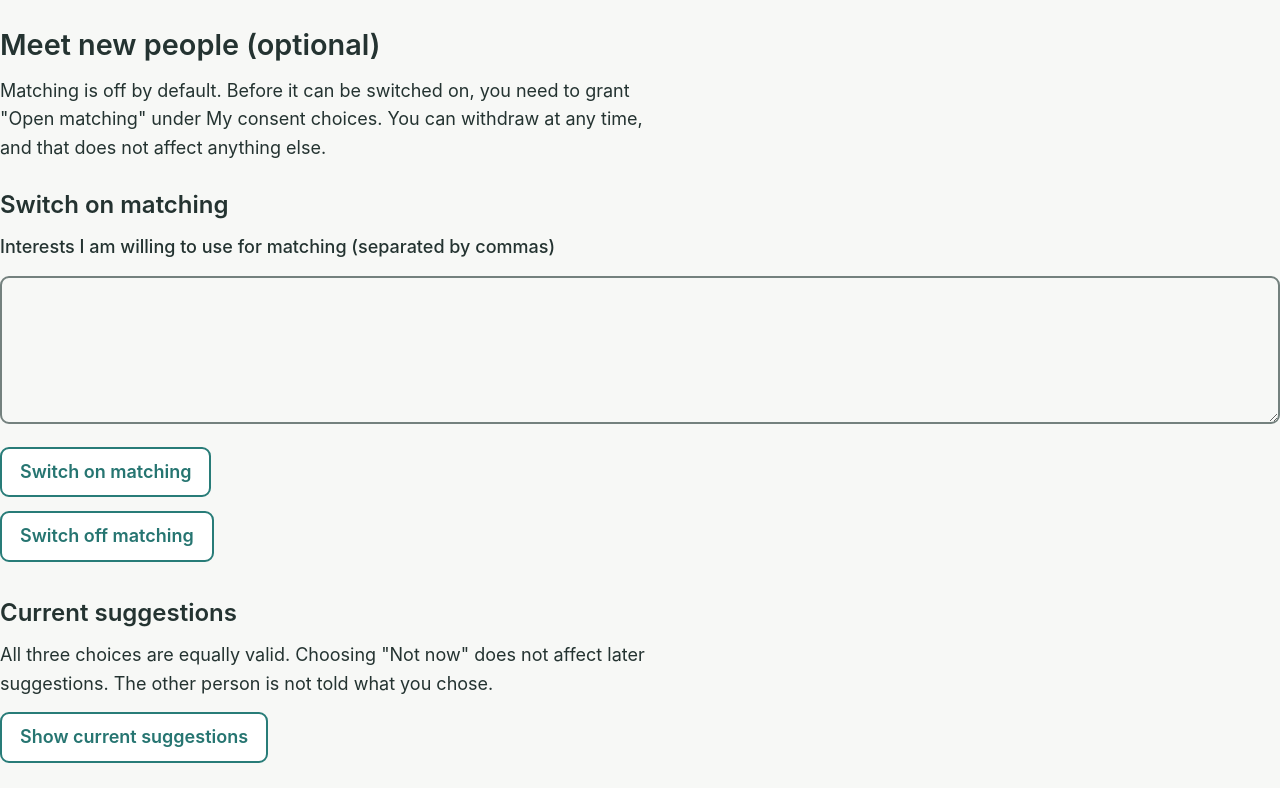
Test case: MatchingPanel (opt-in matching over API lists, ADR-036) › keeps a suggestion and a mutual acceptance visually different
Click the button "Show current suggestions": x=134, y=738 [0, 712, 268, 763]
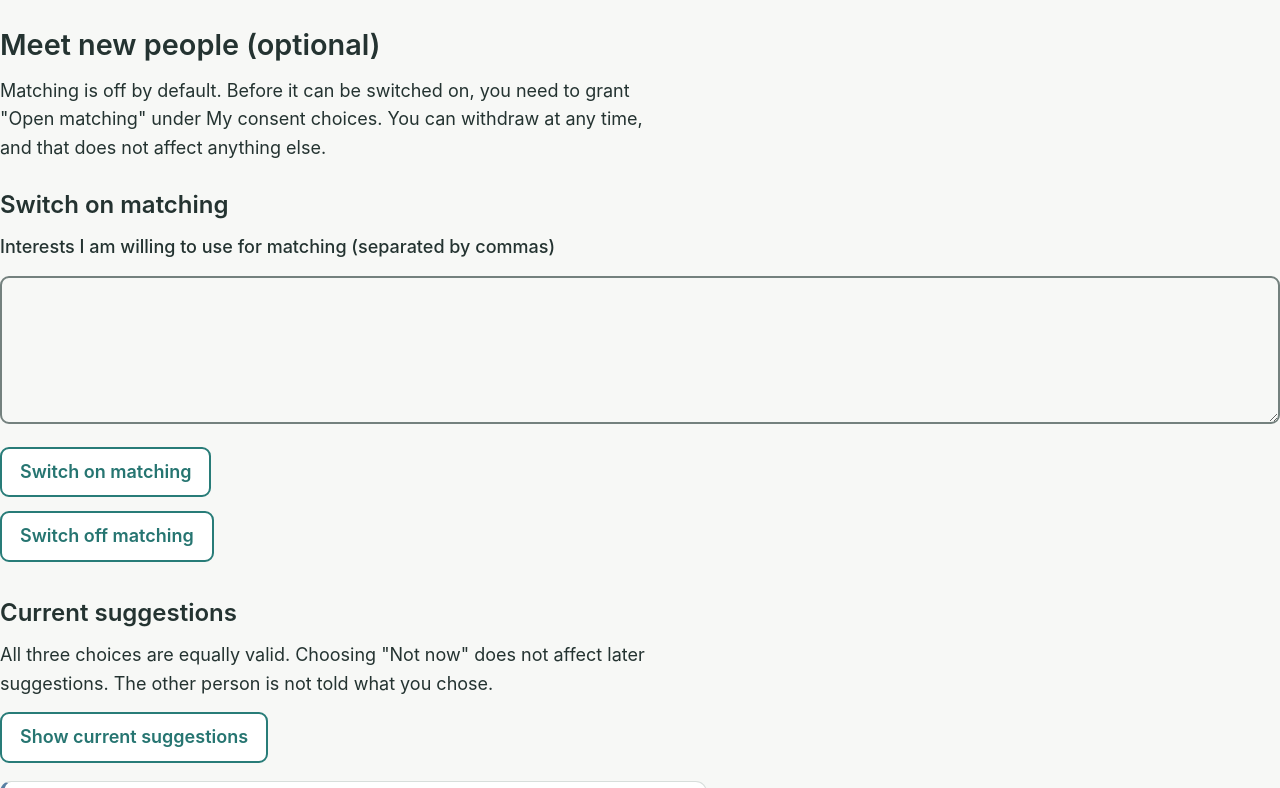
Click the button "Show current suggestions": x=134, y=738 [0, 712, 268, 763]
(page scrolled)
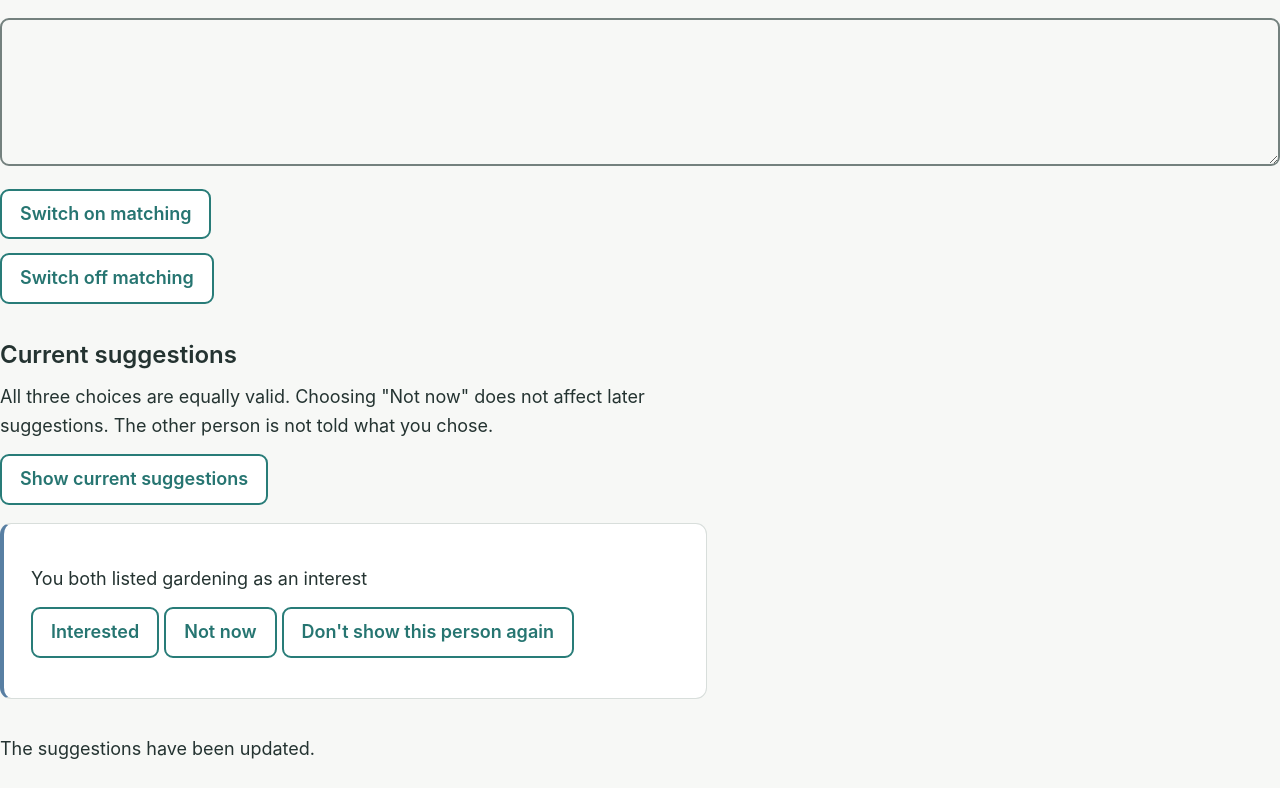
Check: the text "You both listed gardening as an interest" is shown, box [31, 568, 367, 588]
Click the button "Interested": x=95, y=632 [31, 607, 159, 658]
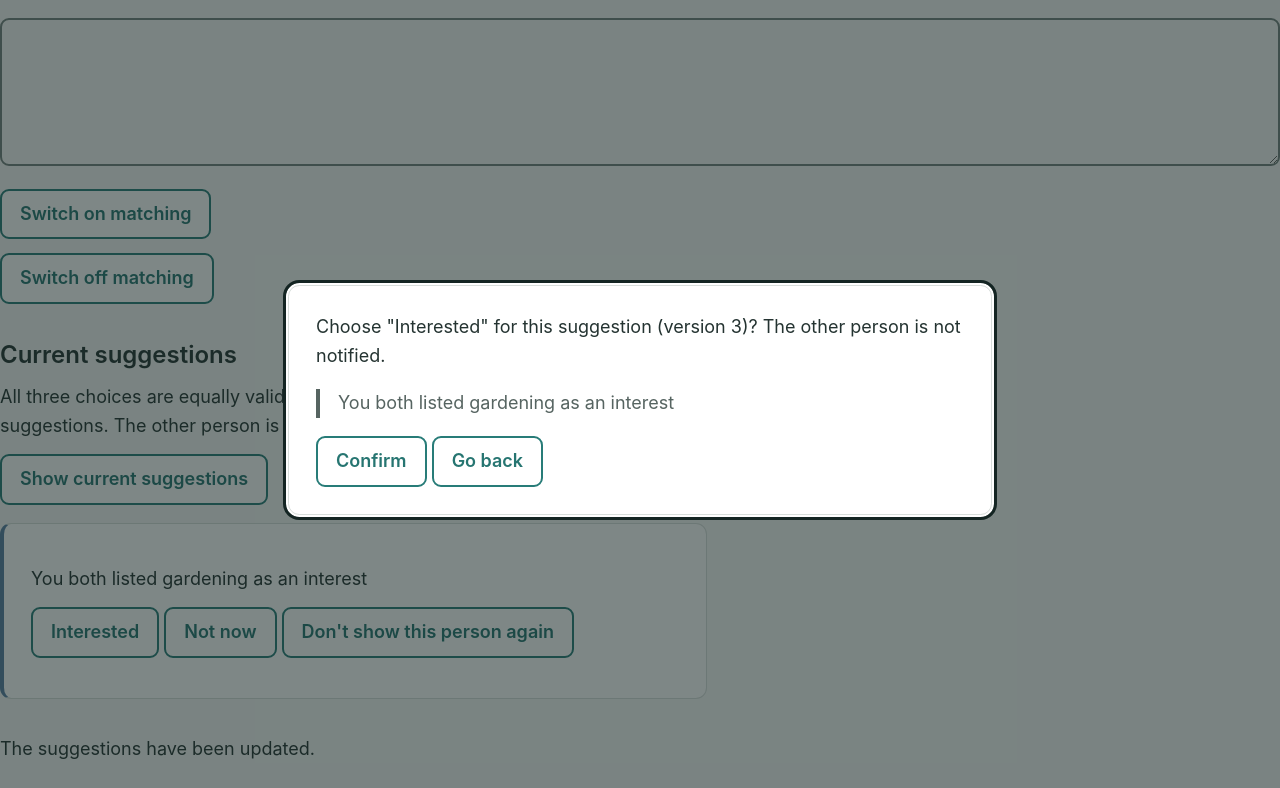
Check: the dialog shows "3", box [731, 316, 742, 337]
Click the button "Confirm": x=371, y=461 [316, 436, 427, 487]
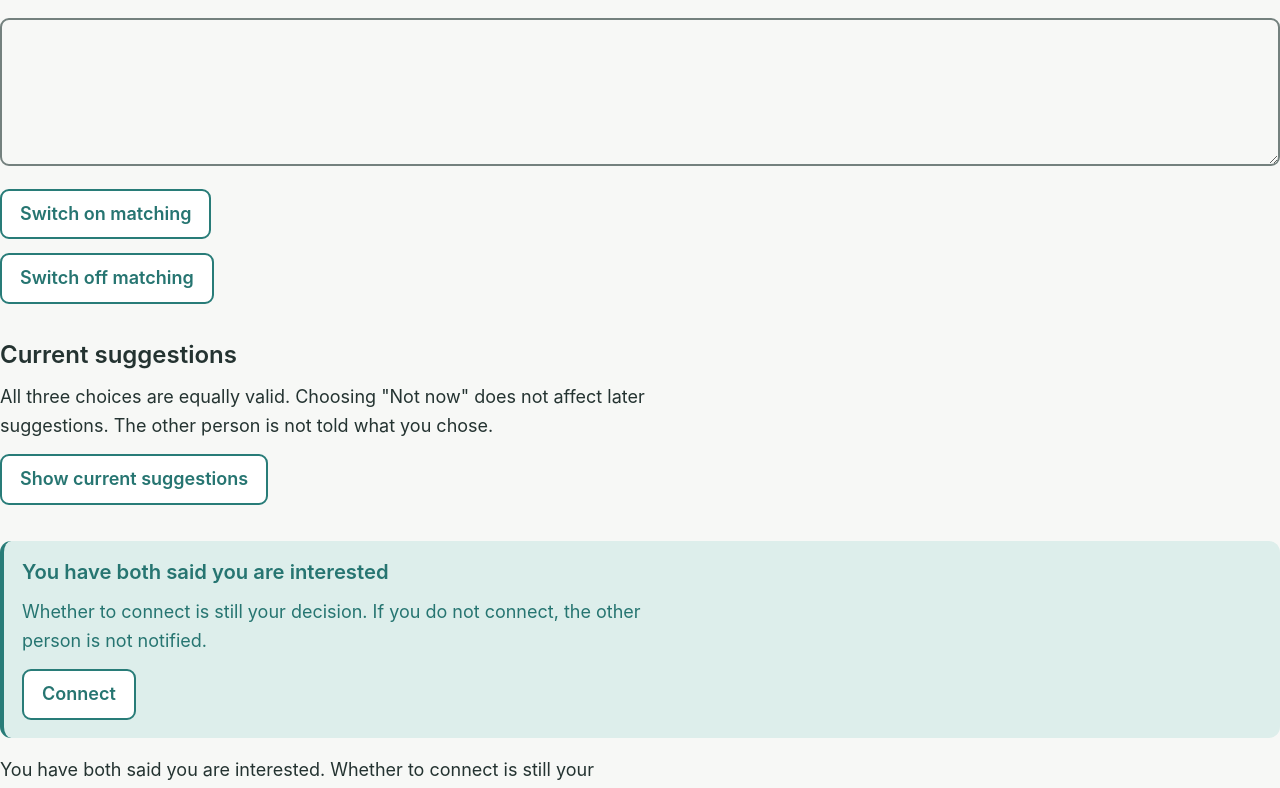
Check: the element with class "state" is shown, box [0, 541, 1279, 738]
